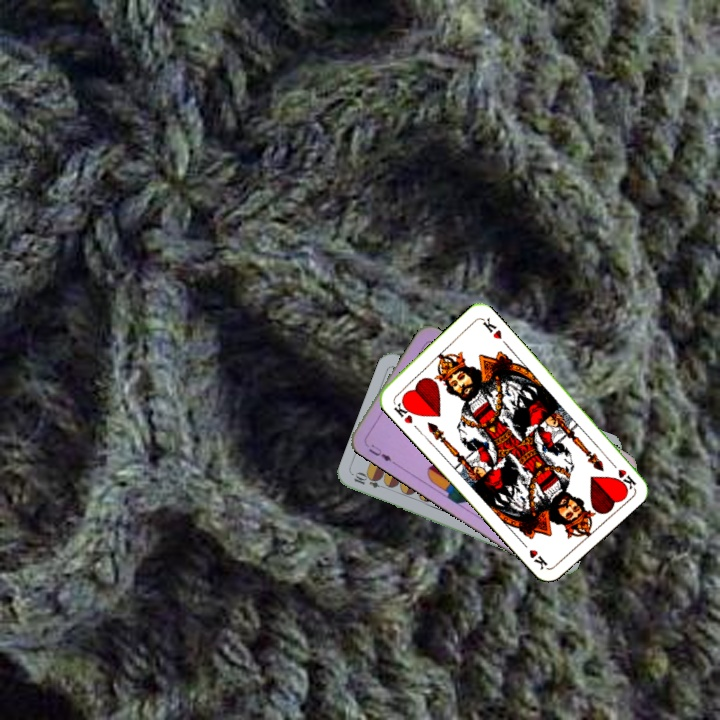E10: (350, 470, 390, 492)
EU: (364, 440, 394, 464)
HK: (605, 456, 638, 491), (389, 396, 418, 426)
